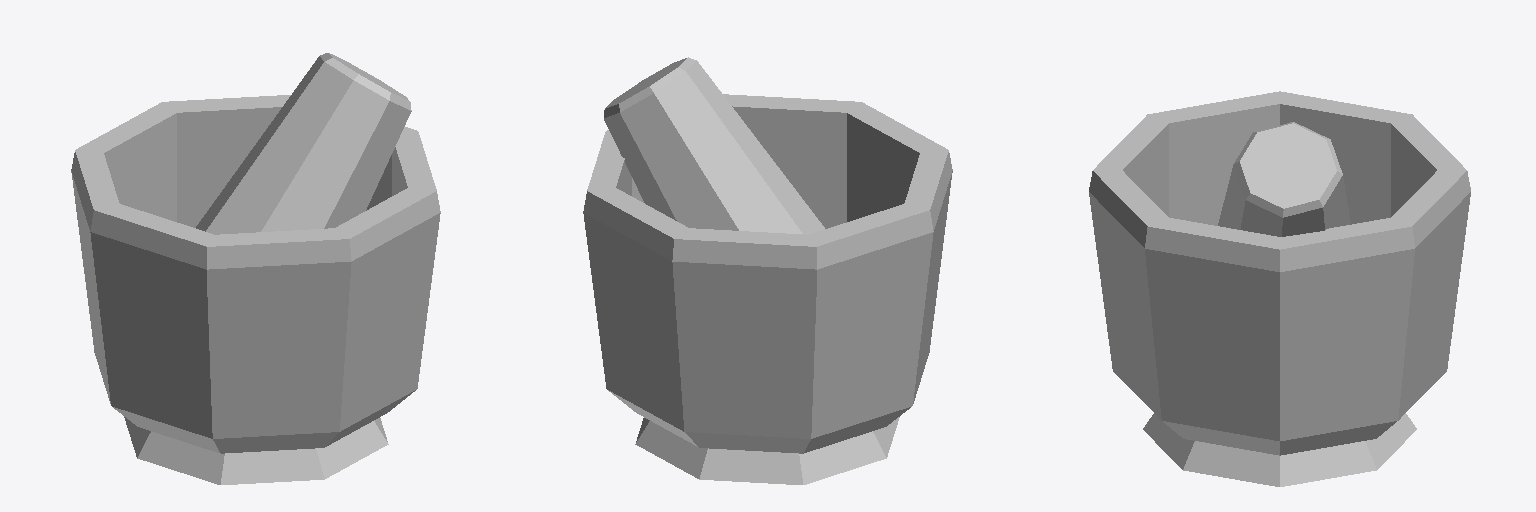
The model's file is cutensil_grind_mortar_and_pestle.obj.
The picture shows the model from 3 angles: view 1: azimuth 30°, elevation 25°; view 2: azimuth 150°, elevation 25°; view 3: azimuth 270°, elevation 25°; orthographic projection.
Visible parts, largest first — view 1: cutensil_grind_mortar_and_pestle_Cylinder.006; view 2: cutensil_grind_mortar_and_pestle_Cylinder.006; view 3: cutensil_grind_mortar_and_pestle_Cylinder.006.
Part boxes in pixels (x1,y1,x2,y2): cutensil_grind_mortar_and_pestle_Cylinder.006: (71,53,440,484); cutensil_grind_mortar_and_pestle_Cylinder.006: (583,57,952,484); cutensil_grind_mortar_and_pestle_Cylinder.006: (1089,91,1470,486).
Bounding box in the file's own units: 2.04 × 2.04 × 2.04.